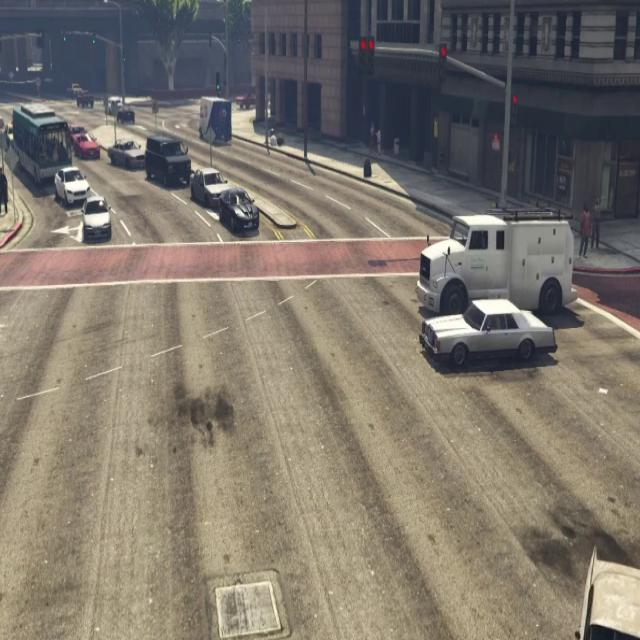Red-Signal: (356, 30, 383, 89), (430, 33, 455, 95), (506, 80, 528, 136)
